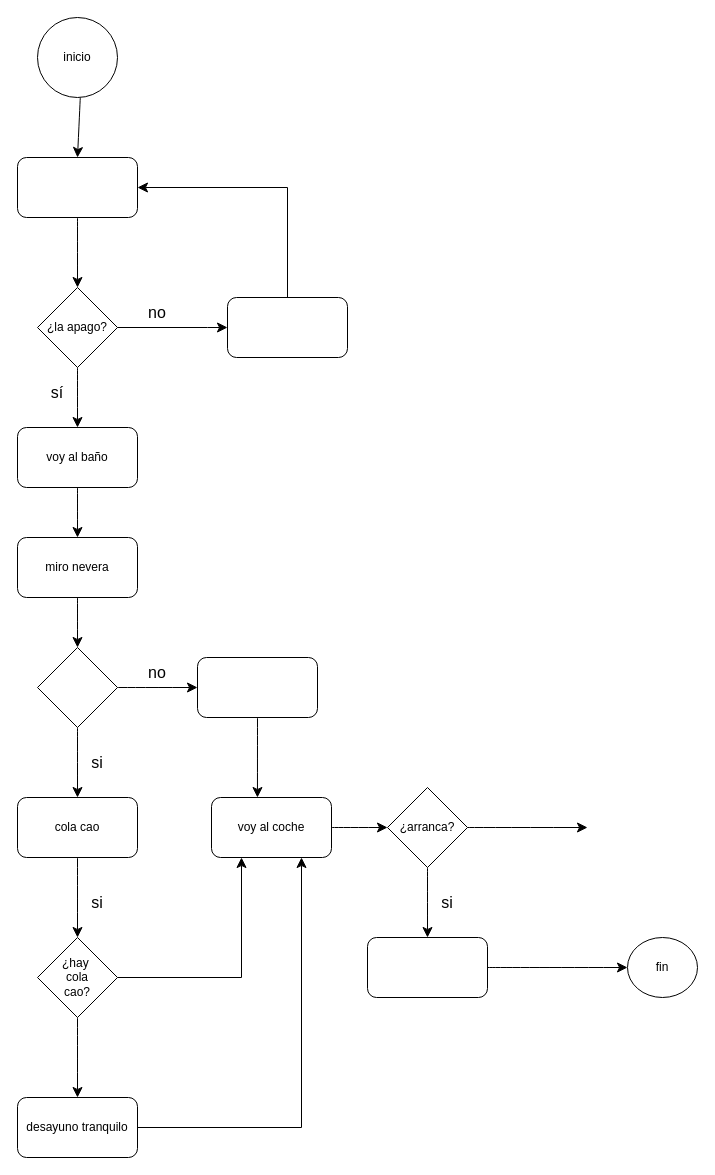
The diagram is 715 pixels wide and 1175 high, and some of its shapes have lost their labels. The centre of each missing label's shape, as x and y in pixels:
"café solo" goes at (257,687).
"espera 5 min" goes at (287,327).
"suena alarma" goes at (77,187).
"voy a clase" goes at (427,967).
"¿hay leche?" goes at (77,687).
